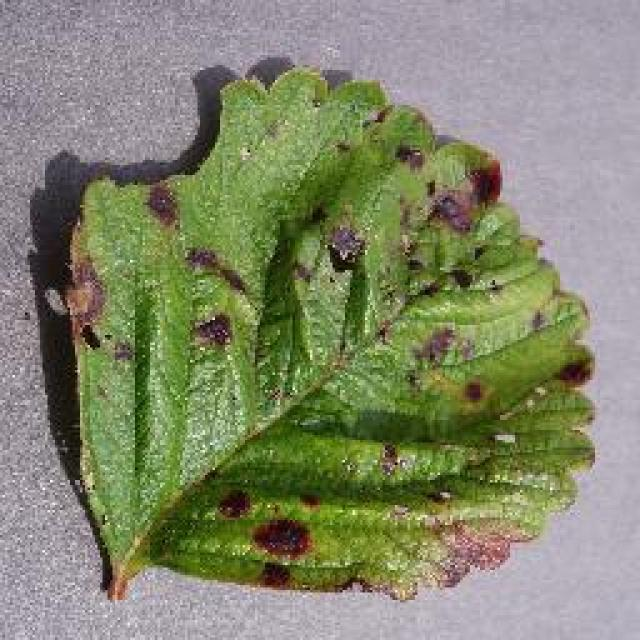Strawberry leaf scorch: (127, 182, 478, 523)
